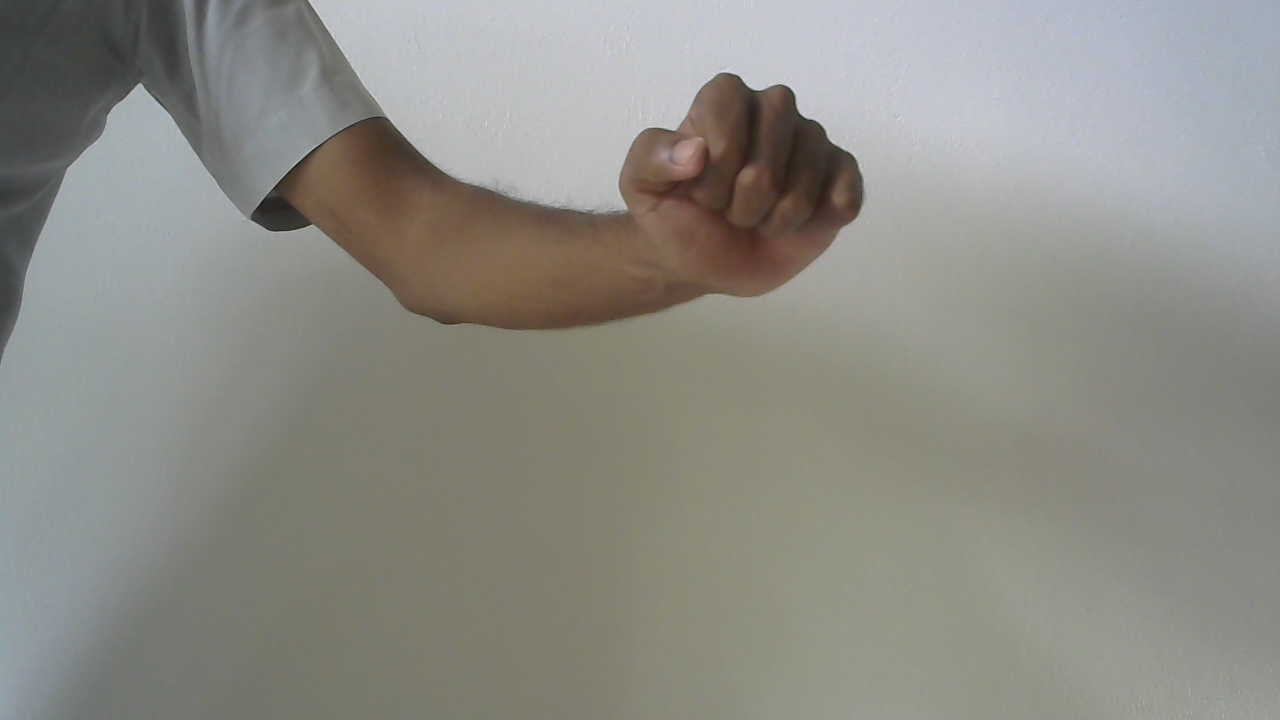yes: (598, 38, 881, 312)
